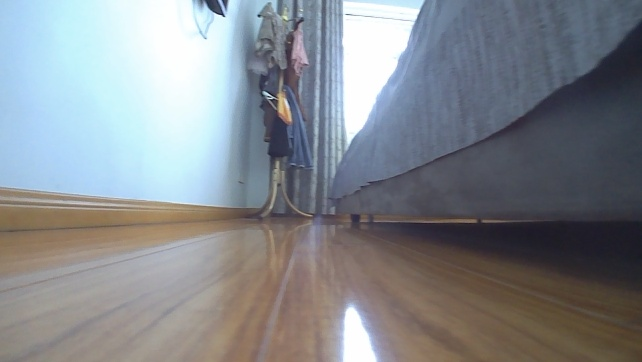bed1: (329, 0, 641, 226)
